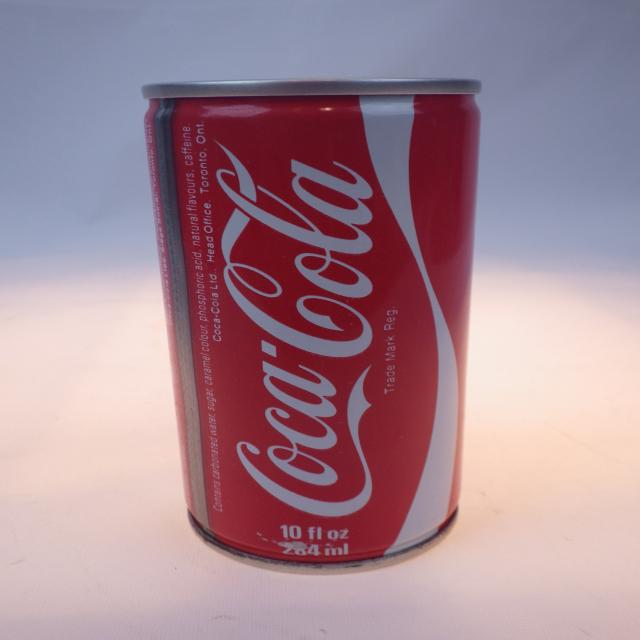cocacola: (117, 69, 479, 571)
